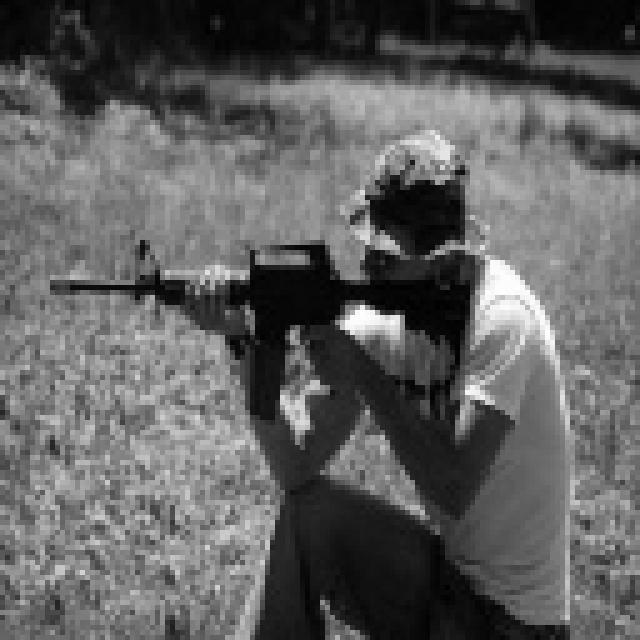Rifle: (34, 234, 492, 441)
